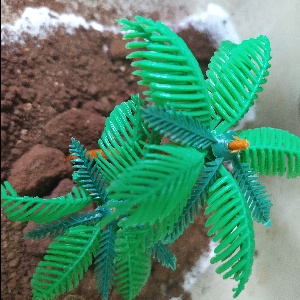plant: (18, 11, 296, 300)
